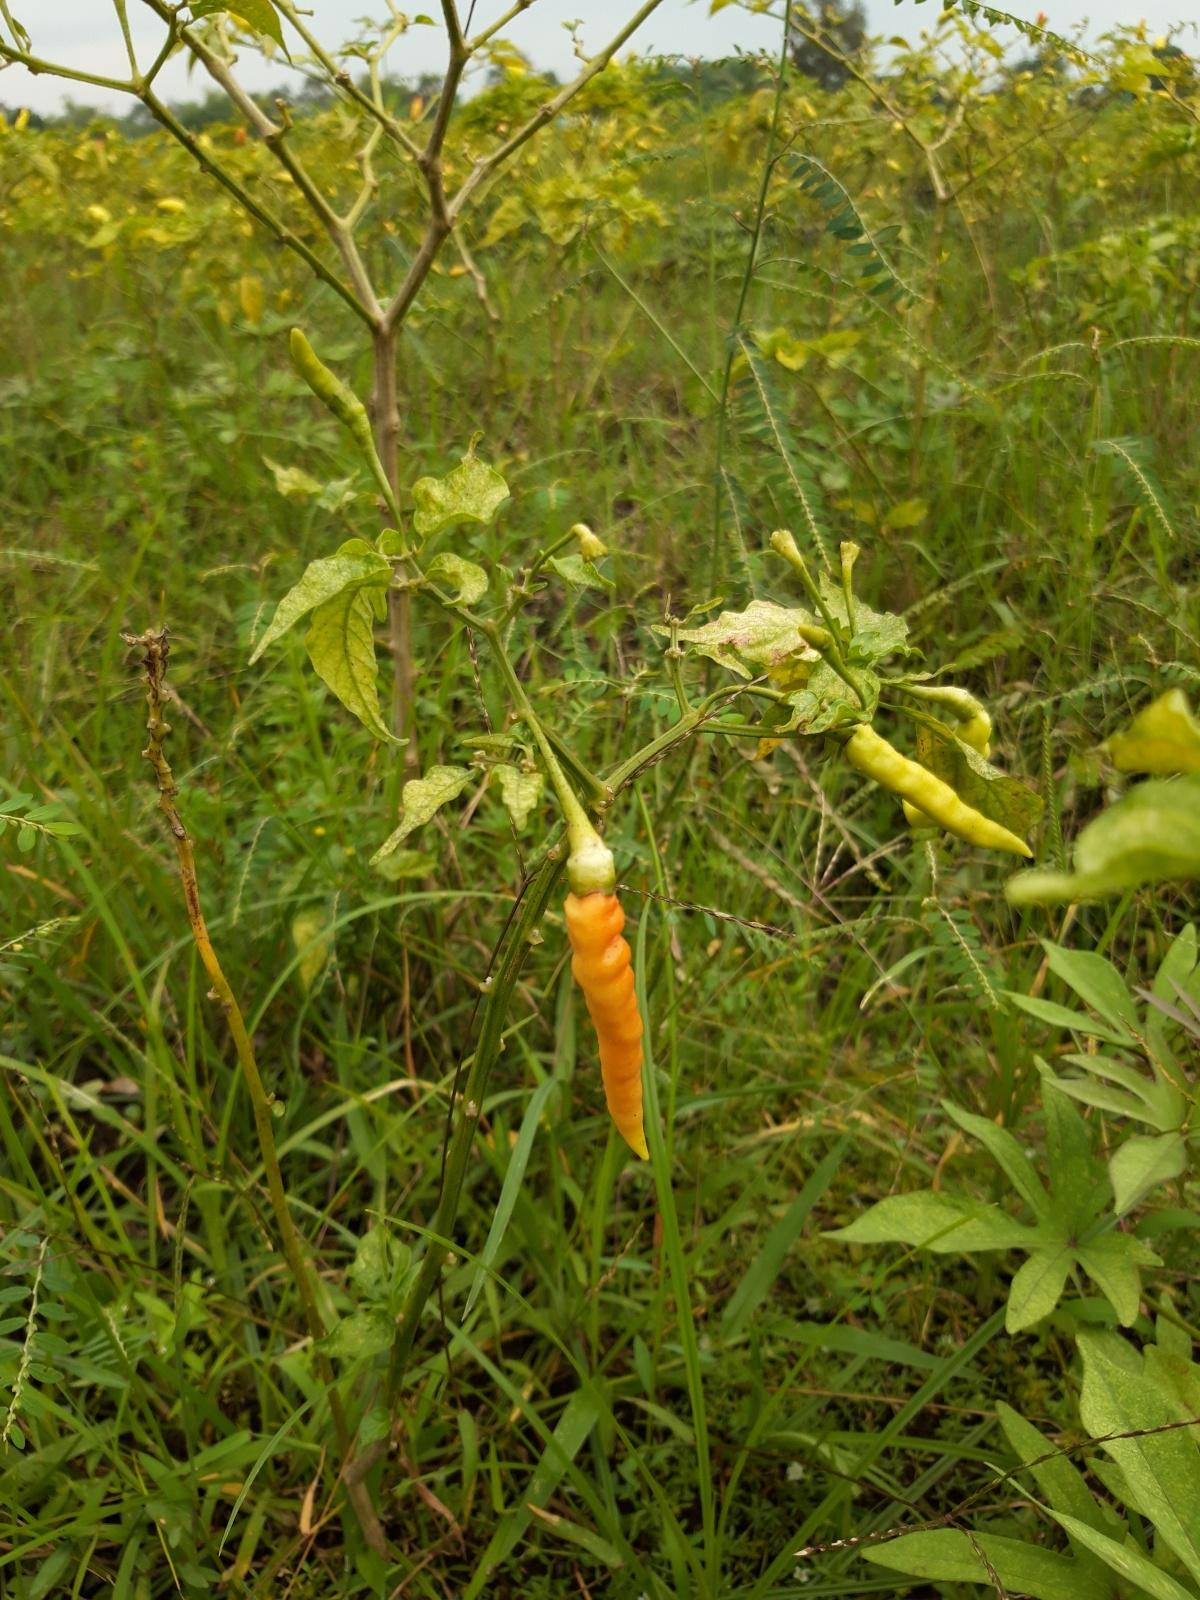cabai_normal: (847, 722, 1034, 857), (565, 879, 650, 1164)
